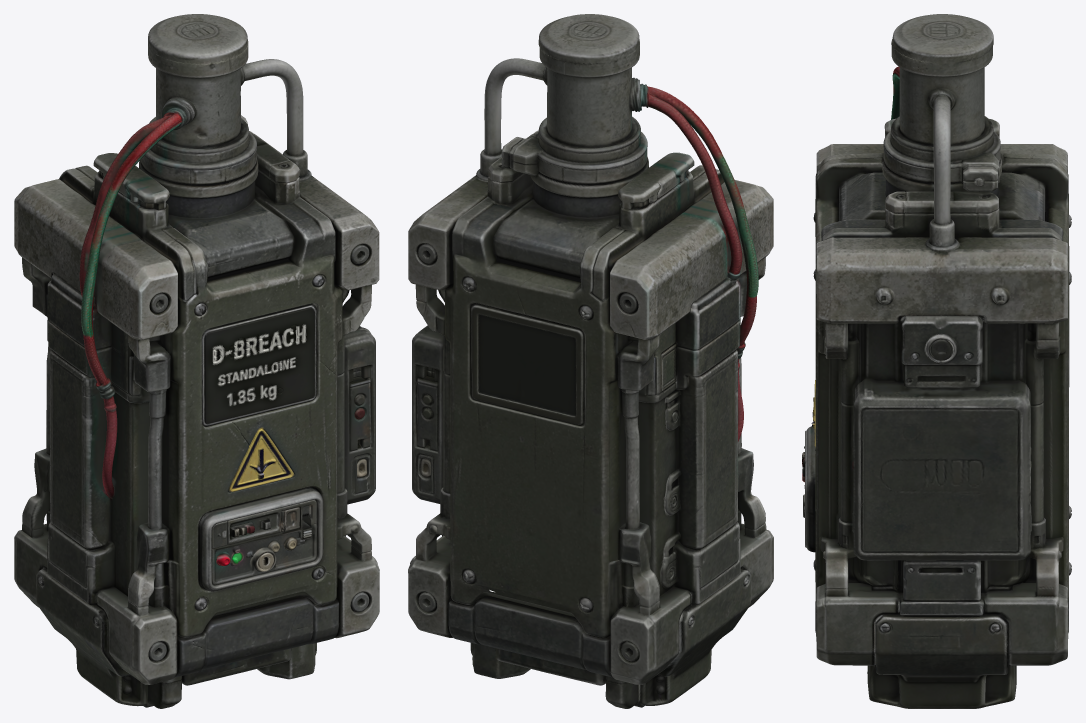
The model's file is d-breach explosive prop 3d model.glb.
3 views of the same model, side by side, from view 1: azimuth 30°, elevation 25°; view 2: azimuth 150°, elevation 25°; view 3: azimuth 270°, elevation 25° (orthographic).
Visible parts, largest first — view 1: tripo_node_462653c6-29d3-45ff-b1dd-fa4c2d23ecfd; view 2: tripo_node_462653c6-29d3-45ff-b1dd-fa4c2d23ecfd; view 3: tripo_node_462653c6-29d3-45ff-b1dd-fa4c2d23ecfd.
Boxes of the visible parts, x1,y1,x2,y2 form: tripo_node_462653c6-29d3-45ff-b1dd-fa4c2d23ecfd: (14,14,379,708); tripo_node_462653c6-29d3-45ff-b1dd-fa4c2d23ecfd: (408,14,773,708); tripo_node_462653c6-29d3-45ff-b1dd-fa4c2d23ecfd: (802,14,1071,708).
Size of the model in its own units: 0.4497 by 0.9802 by 0.3785.
Materials: 1 (1 with a texture image).
